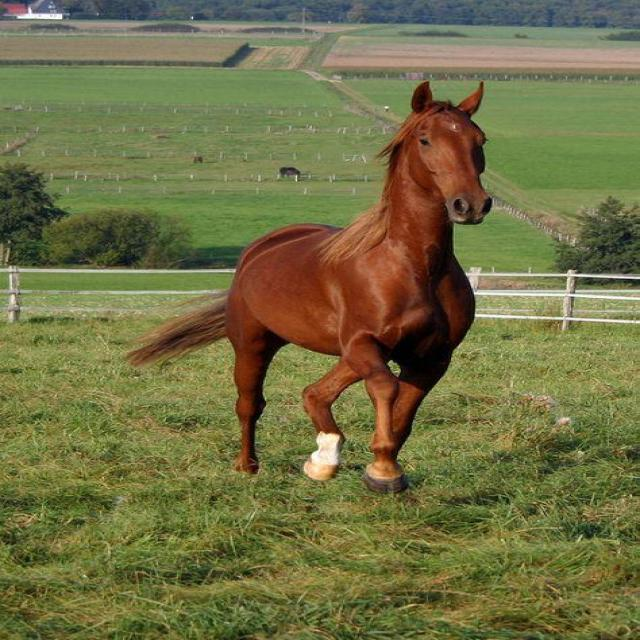horse: (123, 79, 493, 494)
